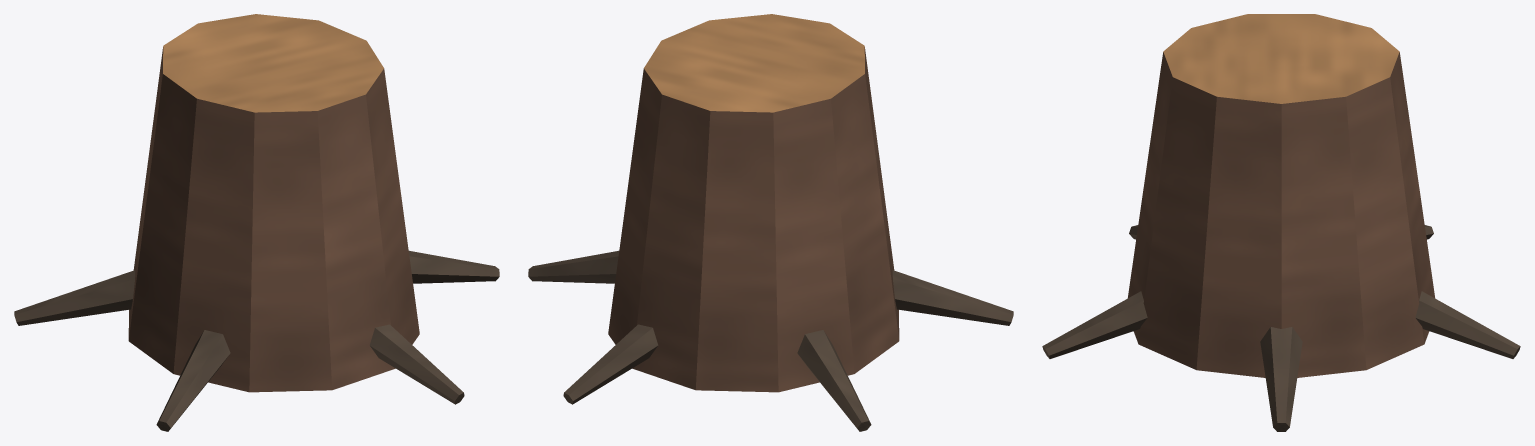
The model's file is stump_big_01.fbx.
3 renders of one model, left to right at view 1: azimuth 30°, elevation 25°; view 2: azimuth 150°, elevation 25°; view 3: azimuth 270°, elevation 25°, orthographic.
Parts seen in each view (by area): view 1: stump_big_01; view 2: stump_big_01; view 3: stump_big_01.
Boxes of the visible parts, left/top/right/bottom form: stump_big_01: left=14, top=14, right=499, bottom=431; stump_big_01: left=528, top=14, right=1013, bottom=431; stump_big_01: left=1042, top=14, right=1520, bottom=431.
Bounding box in the file's own units: 127 × 80 × 130.
Materials: 1 (1 with a texture image).
